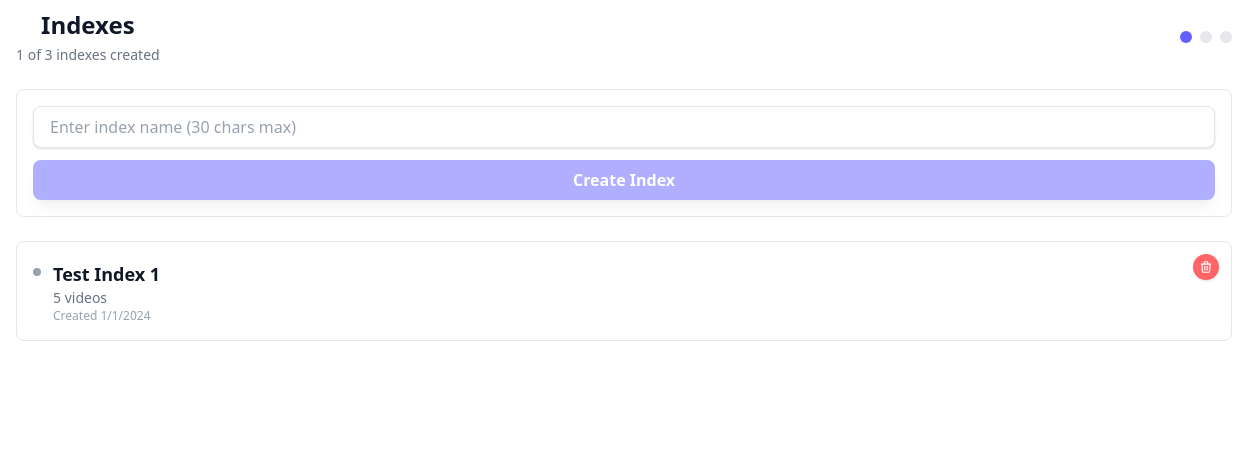
IndexList › should create a new index
Check: the heading "Test Index 1" is shown, box [53,260,160,288]
Type "New Index" into the field with placeholder "Enter index name (30 chars max)". click: (624, 127)
box: [33,106,1215,148]
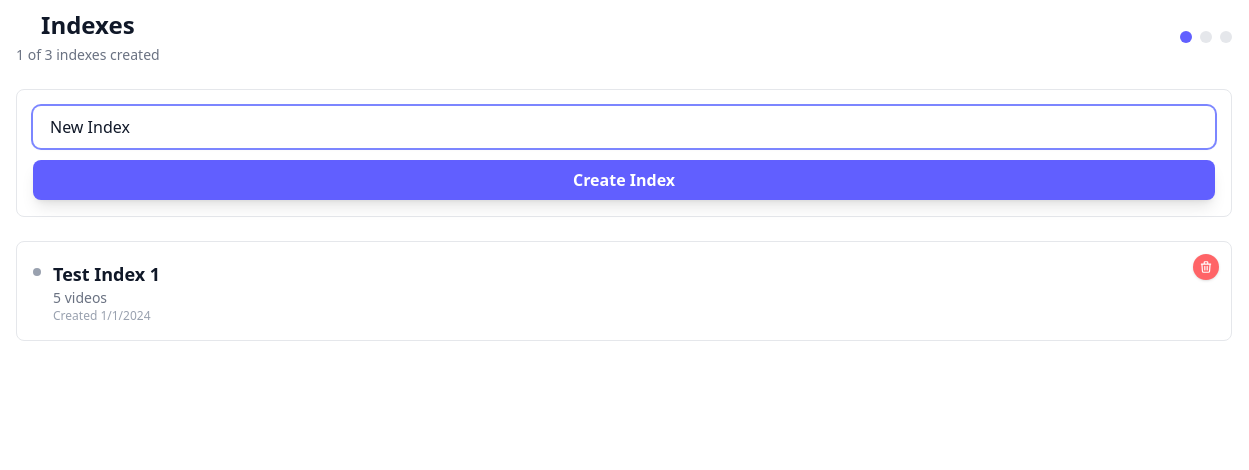
Click the button "Create Index". click: click(624, 180)
box: [33,160,1215,200]
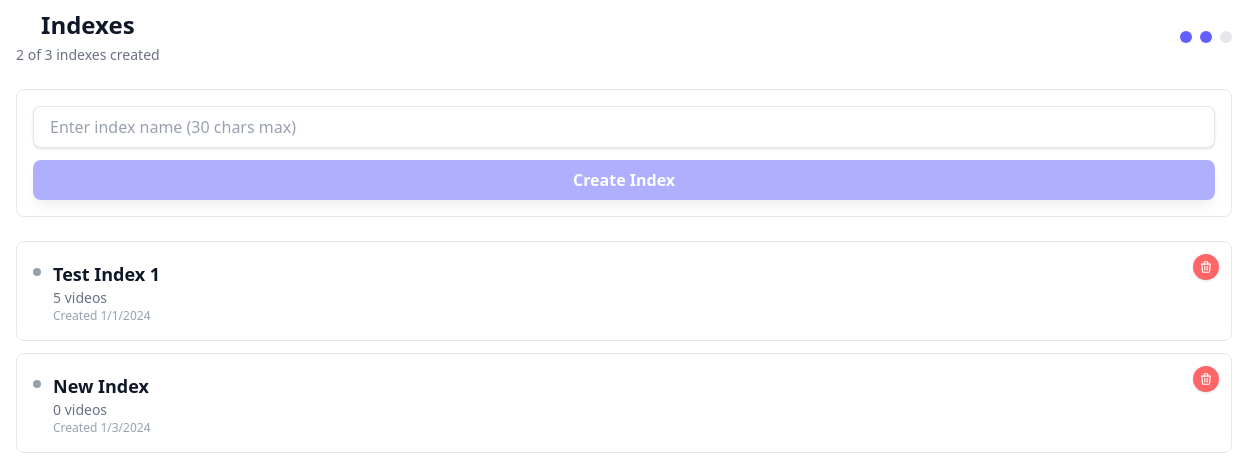
Check: the heading "New Index" is shown, box [53,372,150,400]
Check: the field with placeholder "Enter index name (30 chars max)" is empty, box [33,106,1215,148]
